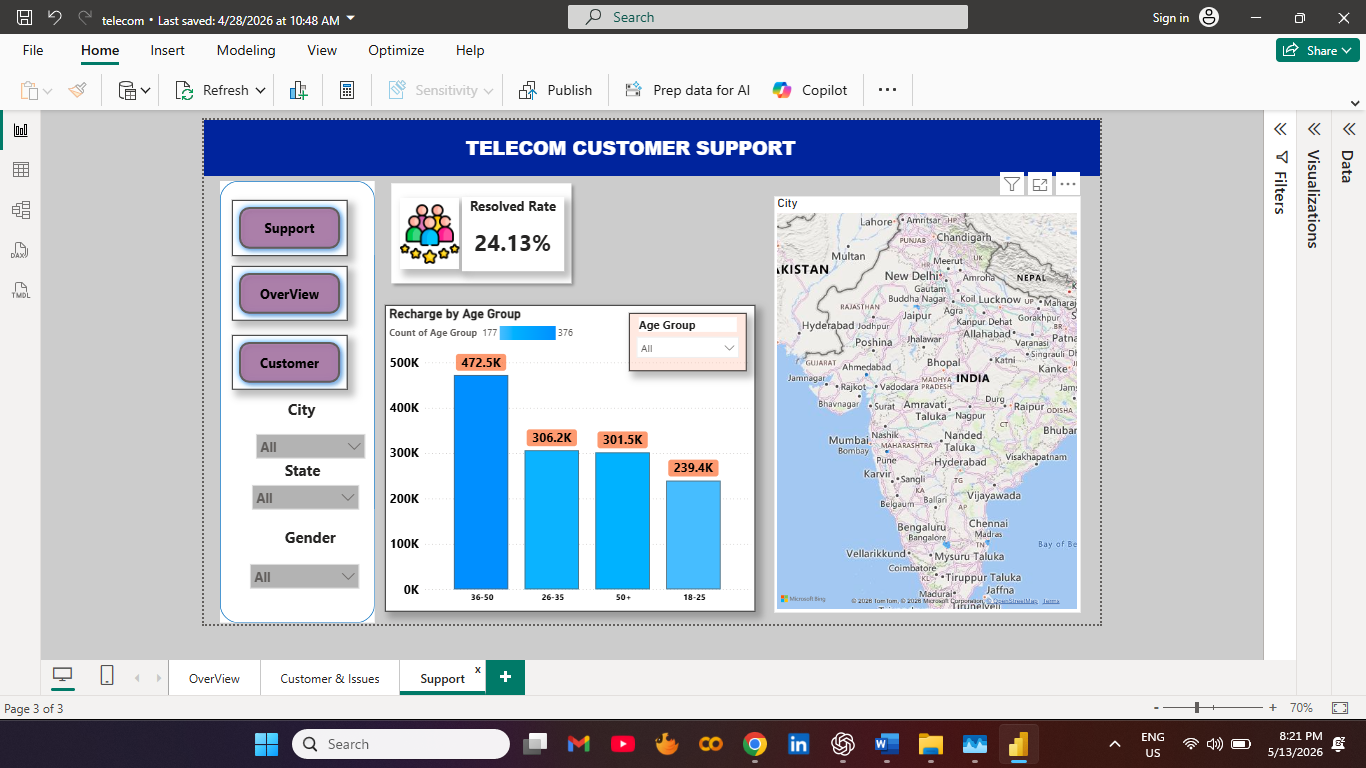

Layout of this report page (visuals, bound fields, positions):
{"tool":"powerbi","page":{"name":"Support","canvas":[1280,720],"ordinal":2},"visuals":[{"type":"shape","box":[0,0,1280,80],"z":0},{"type":"textbox","box":[368,16,752,64],"z":1000},{"type":"shape","box":[258.9,81.3,275.1,160.7],"z":1000,"group":"g1"},{"type":"shape","box":[22.7,87.8,221.1,631.4],"z":2000},{"type":"textbox","box":[39.4,480,201.4,48.5],"z":3000},{"type":"textbox","box":[46.8,392.2,184.4,48.3],"z":4000},{"type":"group","id":"g1","title":"Group 4","box":[258.9,81.3,275.9,160.6],"z":5000},{"type":"slicer","fields":{"Values":["CustomerMaster.State"]},"box":[59.1,511.8,172.6,63.6],"z":6000},{"type":"actionButton","title":"Over","box":[39.8,208.3,164.5,78.3],"z":7000},{"type":"actionButton","title":"Over","box":[39.8,306.5,164.5,78.3],"z":8000},{"type":"actionButton","title":"Over","box":[39.8,114.1,164.5,79.6],"z":9000},{"type":"textbox","box":[93.9,575.4,115.1,45.4],"z":10000},{"type":"slicer","fields":{"Values":["CustomerMaster.Gender"]},"box":[56,623.9,175.6,63.6],"z":11000},{"type":"columnChart","title":"Recharge by Age Group","fields":{"Category":["CustomerMaster.Age Group"],"Y":["Cust_Measure.Total Revenue"]},"box":[258.9,264.6,529.1,438.4],"z":12000},{"type":"slicer","fields":{"Values":["CustomerMaster.City"]},"box":[64.3,438.4,175.6,50],"z":13000},{"type":"group","id":"g2","title":"Group 1","box":[279.7,111.5,85,102],"z":14000},{"type":"card","title":"Resolved Rate","fields":{"Values":["CustomerMaster.%"]},"box":[368.5,109.6,145.5,105.8],"z":15000},{"type":"slicer","fields":{"Values":["CustomerMaster.Age Group"]},"box":[606.6,275.9,168.2,83.2],"z":16000},{"type":"filledMap","fields":{"Category":["CustomerMaster.City"]},"box":[814.7,109.2,438.4,594.6],"z":17000},{"type":"image","box":[279.7,111.5,85,102],"z":30502,"group":"g2"}]}

Visuals, with their boxes on the page's 1280x720 design canvas (x1, y1, x2, y2). These are canvas units, not pixel positions in the 1366x768 screenshot, which may show the page scaled, cropped or inside an application window:
shape: (0, 0, 1280, 80)
textbox: (368, 16, 1120, 80)
shape: (259, 81, 534, 242)
shape: (23, 88, 244, 719)
textbox: (39, 480, 241, 528)
textbox: (47, 392, 231, 440)
"Group 4" group: (259, 81, 535, 242)
slicer - CustomerMaster.State: (59, 512, 232, 575)
"Over" actionButton: (40, 208, 204, 287)
"Over" actionButton: (40, 306, 204, 385)
"Over" actionButton: (40, 114, 204, 194)
textbox: (94, 575, 209, 621)
slicer - CustomerMaster.Gender: (56, 624, 232, 688)
"Recharge by Age Group" columnChart: (259, 265, 788, 703)
slicer - CustomerMaster.City: (64, 438, 240, 488)
"Group 1" group: (280, 112, 365, 214)
"Resolved Rate" card: (368, 110, 514, 215)
slicer - CustomerMaster.Age Group: (607, 276, 775, 359)
filledMap - CustomerMaster.City: (815, 109, 1253, 704)
image: (280, 112, 365, 214)
